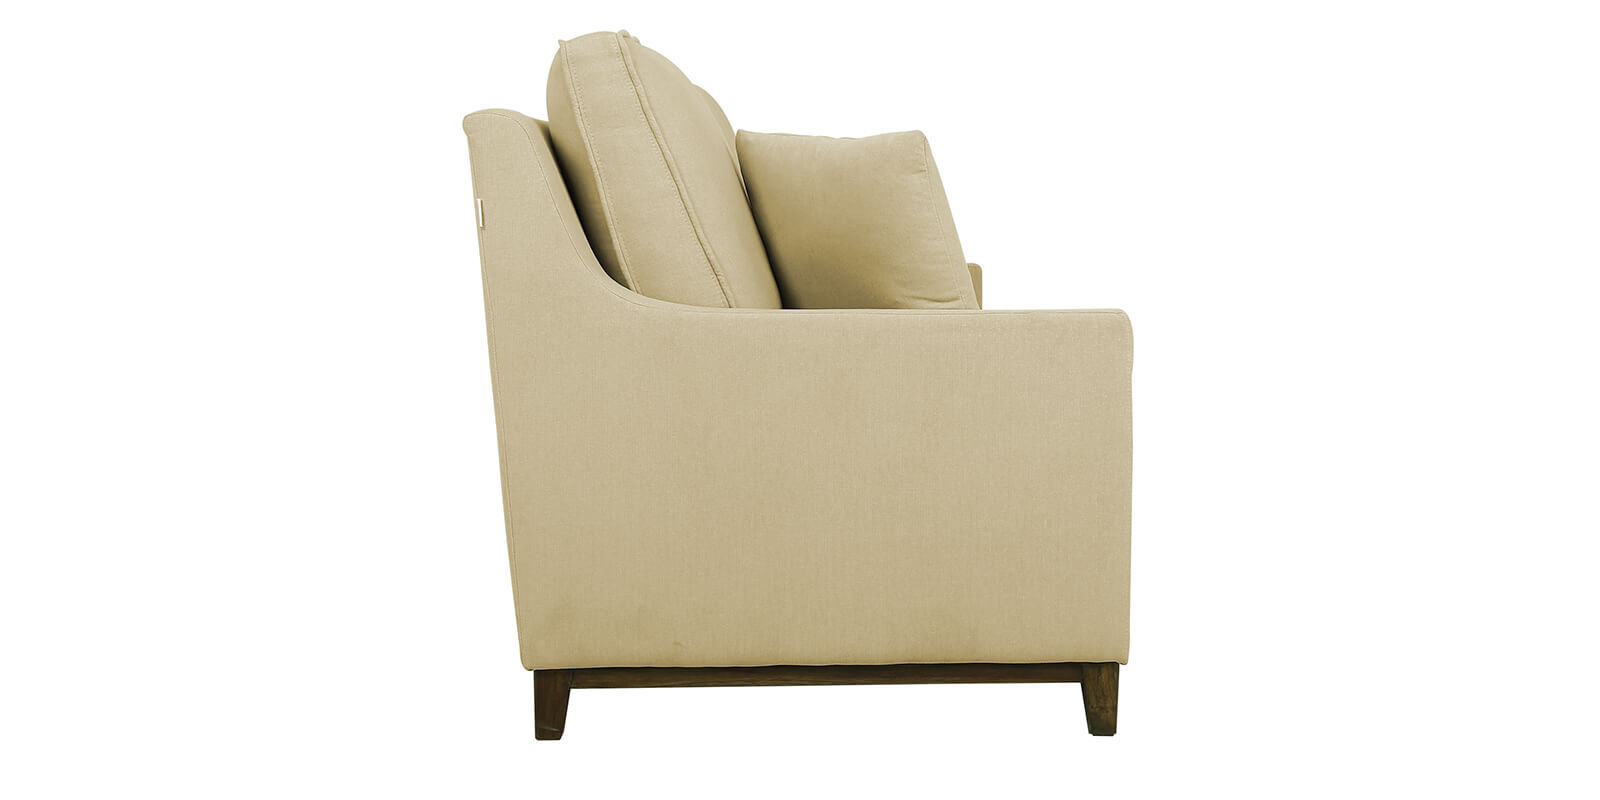Diego Three Seater Sofa in Beige Colour by CasaCraft: (439, 38, 1165, 762)
